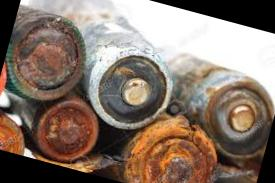battery: (10, 0, 200, 136), (140, 29, 275, 164)
